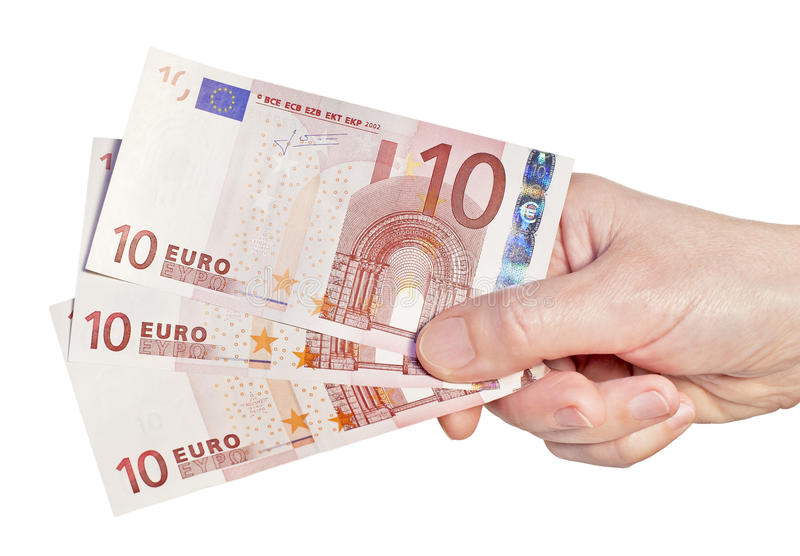billete: (80, 44, 585, 358), (65, 134, 540, 390), (46, 283, 558, 518)
